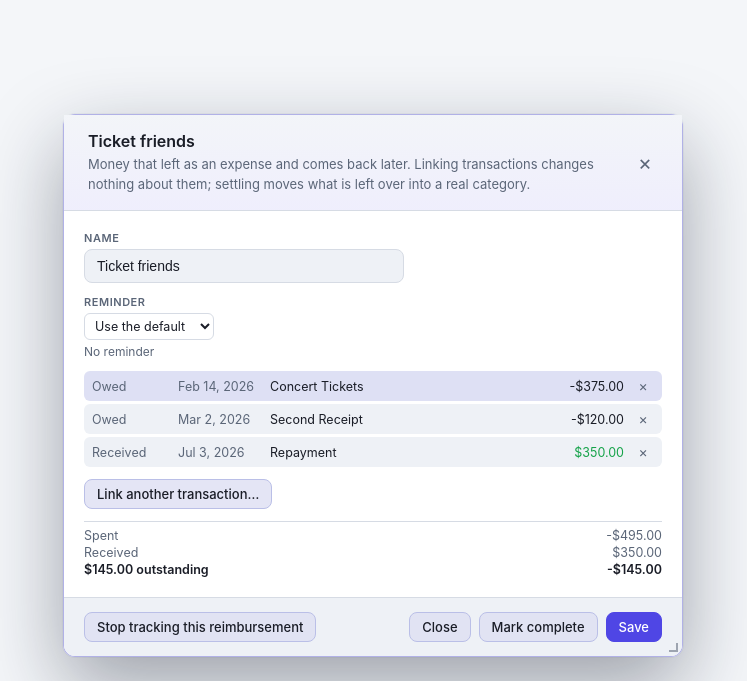
completing › asks which transaction only when the role has more than one candidate
The width and height of the screenshot is (747, 681).
Click the button "Mark complete".
click(538, 627)  # box [479,612,598,642]
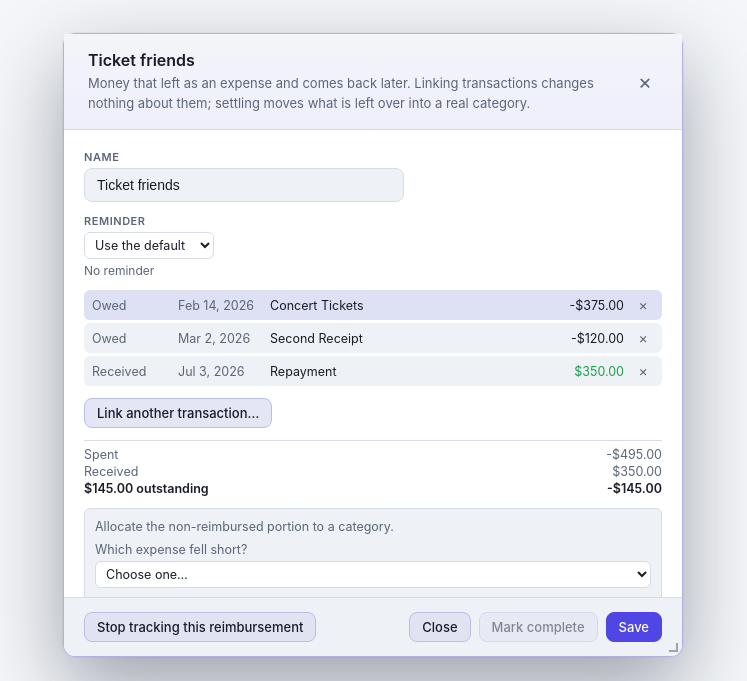
Result: the dropdown labelled "Which expense fell short?" is shown at [95,561,651,588]
Result: the text "Which expense fell short?" is shown at [95,542,247,557]
